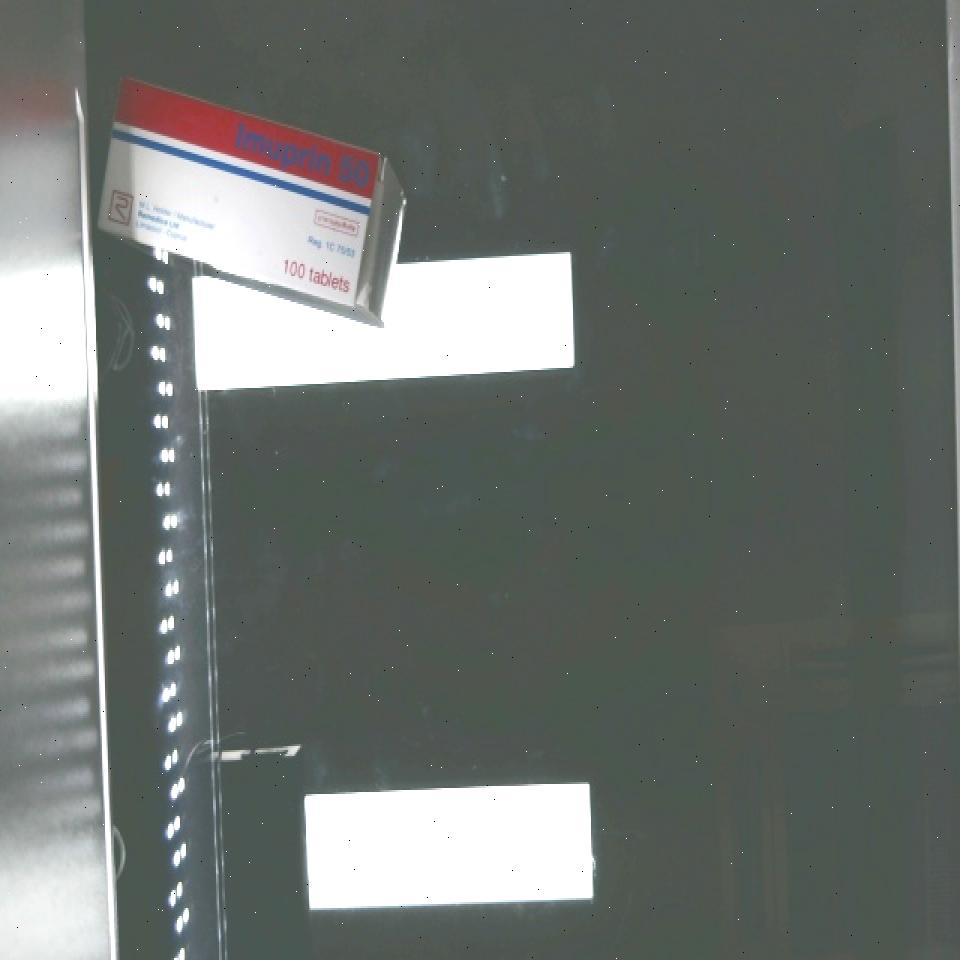medicine_box: (74, 76, 404, 307)
medicine_label_obb: (210, 100, 392, 212)
